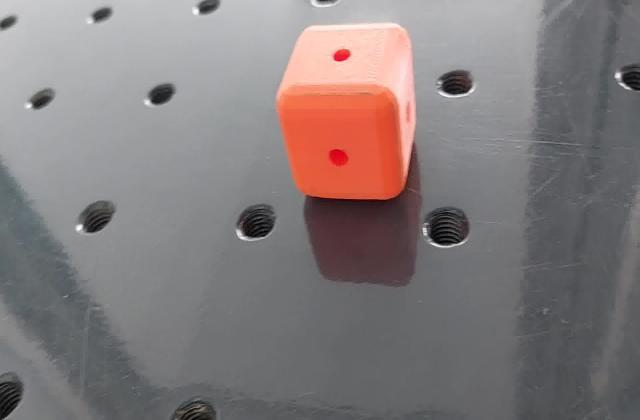cube: (270, 20, 420, 206)
